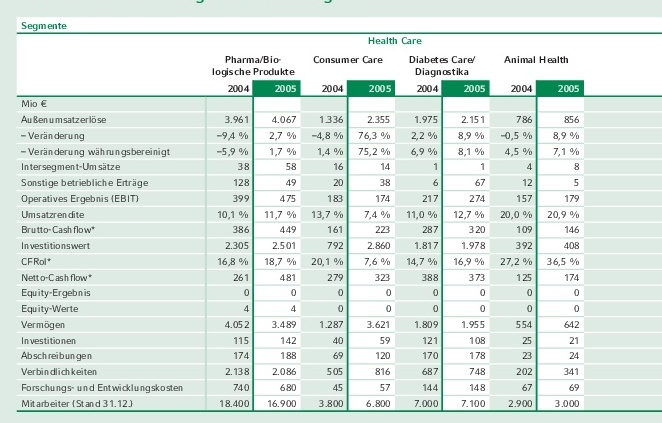table: (0, 0, 662, 423)
